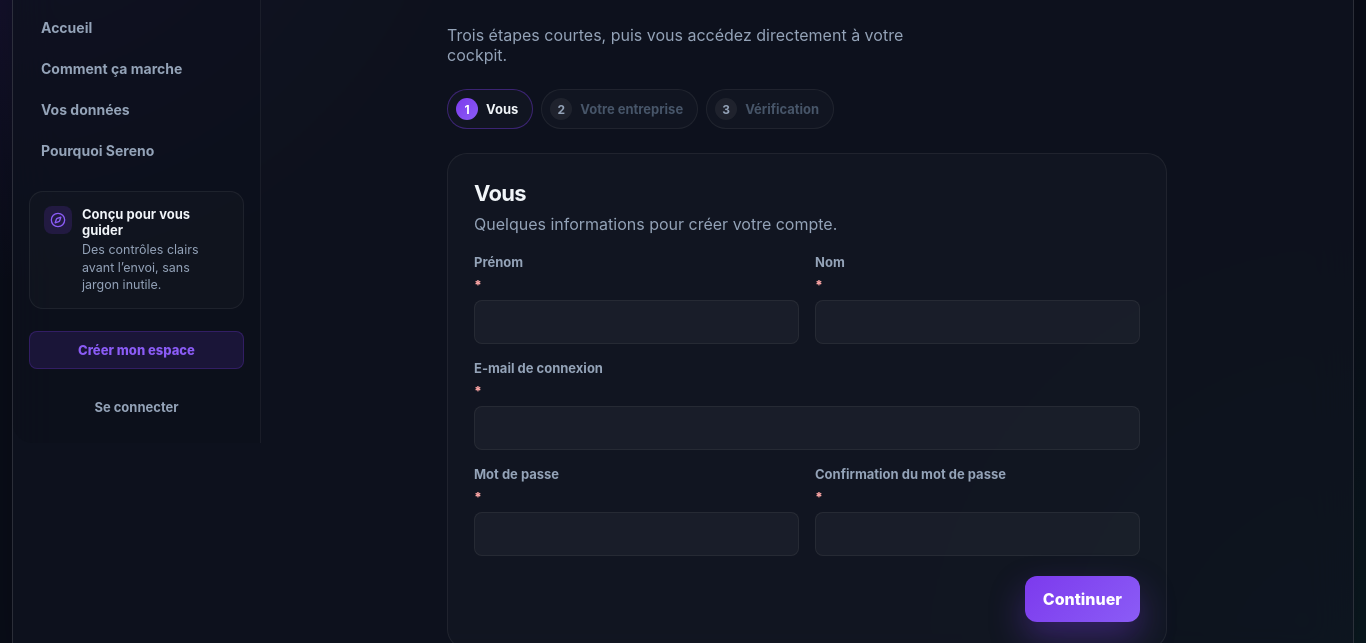
Test case: InscriptionPage — étape 1 (Vous) › valide localement SANS appeler le backend (requis, e-mail plausible, 8 caractères, confirmation identique)
(page scrolled)
Click the button "Continuer". click: point(1082, 599)
box: [1025, 576, 1140, 622]
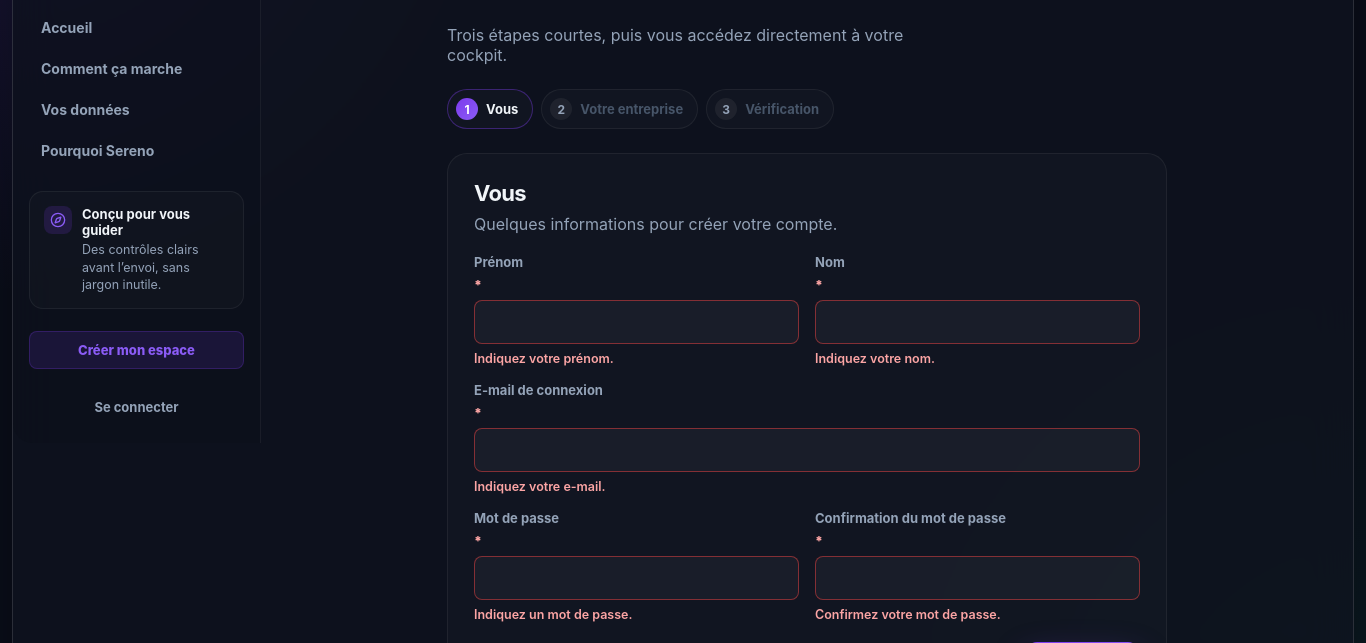
Expected: the text "Indiquez votre prénom." is shown, [474, 351, 614, 366]
Expected: the text "Indiquez votre nom." is shown, [815, 351, 935, 366]
Expected: the text "Indiquez votre e-mail." is shown, [474, 479, 606, 494]
Type "Sébastien" into the field labelled "Prénom * Indiquez votre prénom.". click: point(636, 322)
box: [474, 300, 799, 344]
Type "Cantrelle" into the field labelled "Nom * Indiquez votre nom.". click: point(978, 322)
box: [815, 300, 1140, 344]
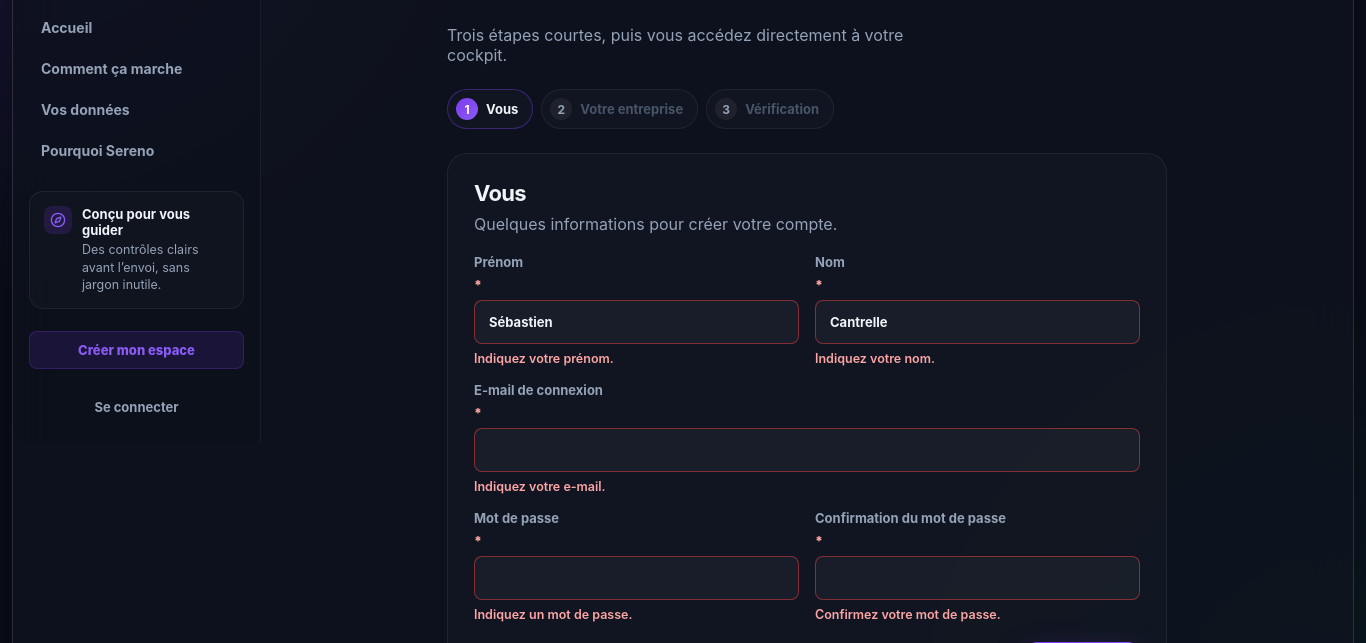
Type "pas-un-email" into the field labelled "E-mail de connexion * Indiquez votre e-mail.". click: point(807, 450)
box: [474, 428, 1140, 472]
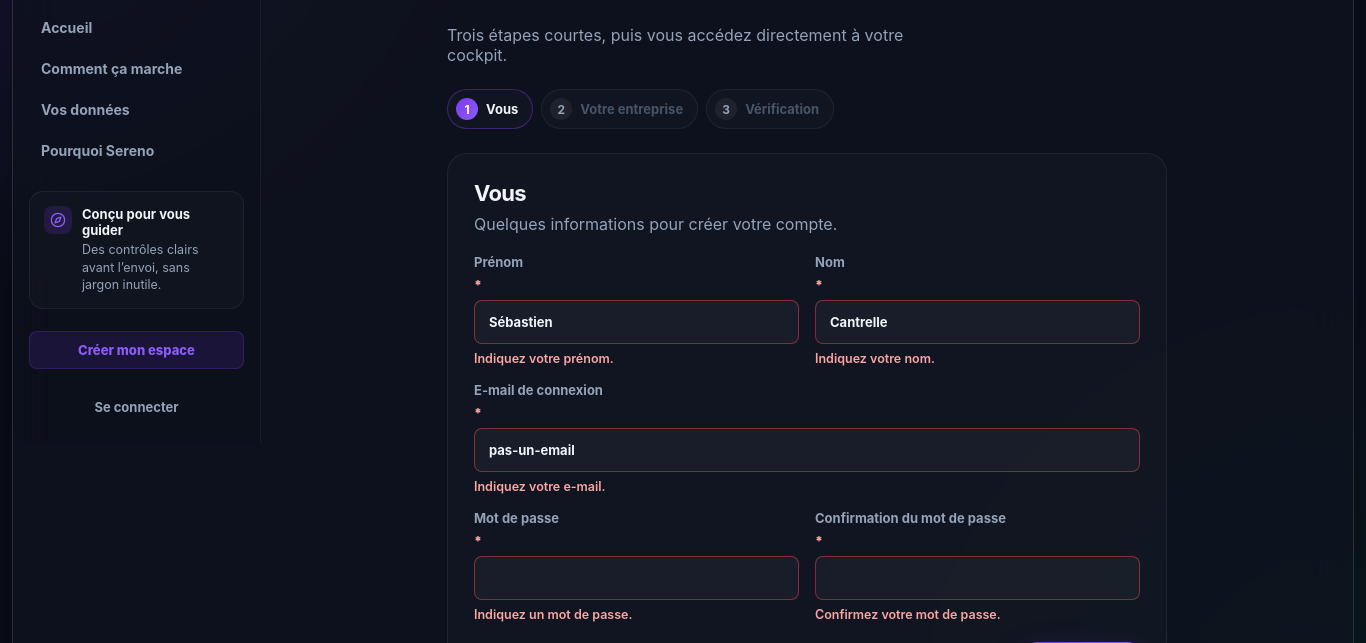
Type "court" into the password field labelled "Mot de passe * Indiquez un mot de passe.". click: point(636, 578)
box: [474, 556, 799, 600]
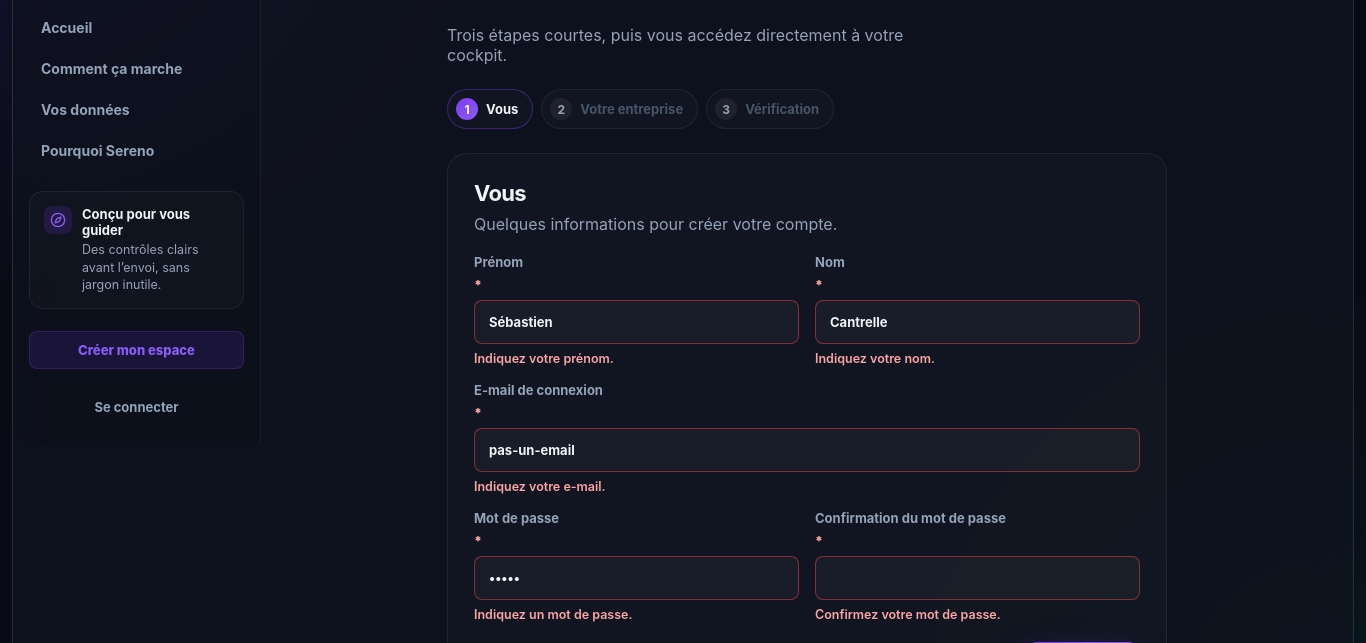
Type "different" into the password field labelled "Confirmation du mot de passe * Confirmez votre mot de passe.". click: point(978, 578)
box: [815, 556, 1140, 600]
(page scrolled)
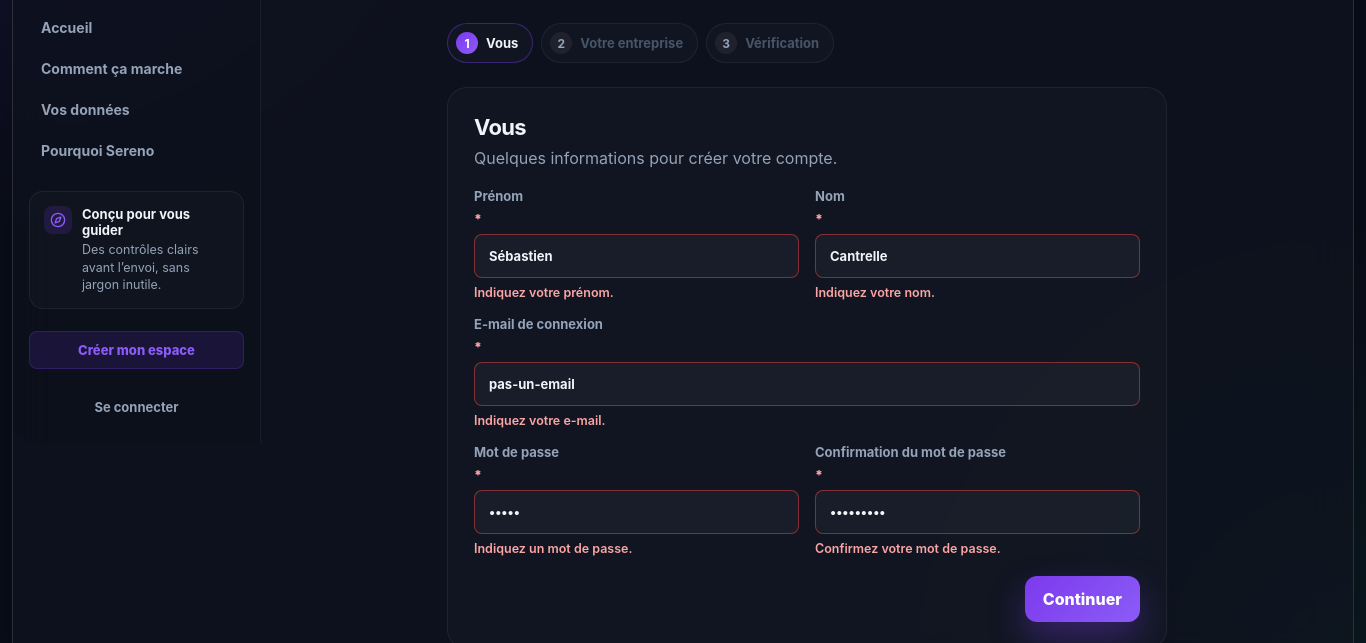
Click the button "Continuer". click: point(1082, 599)
box: [1025, 576, 1140, 622]
(page scrolled)
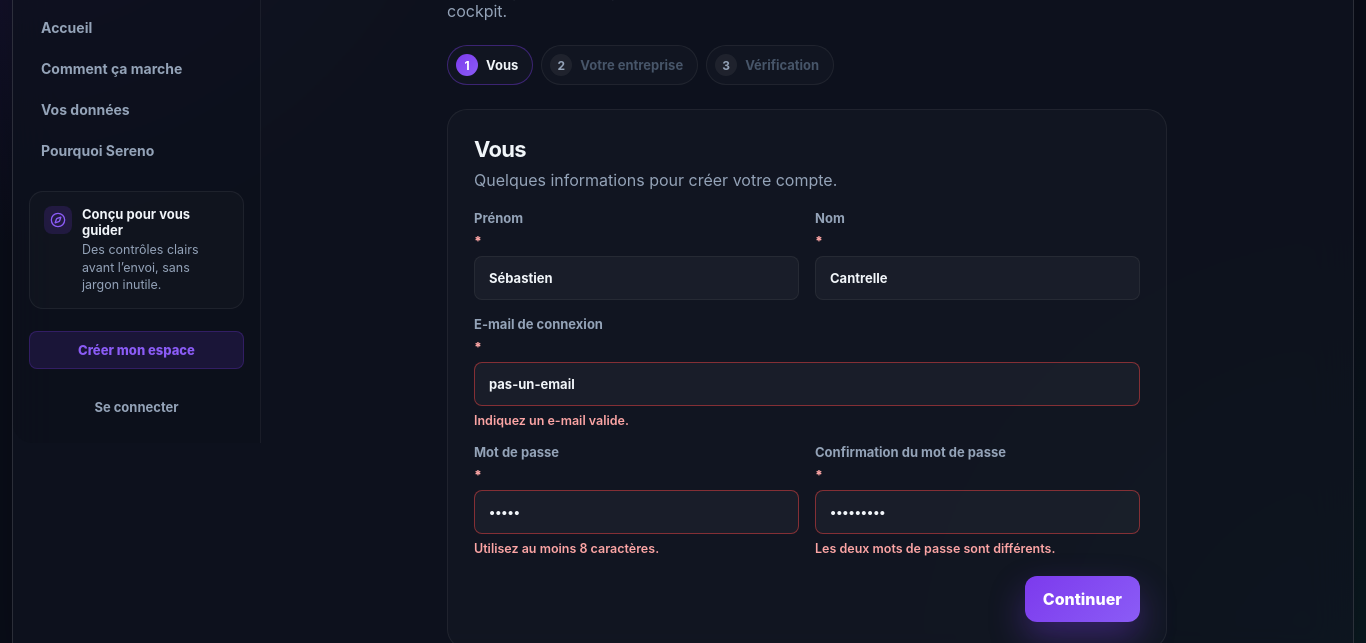
Expected: the text "Indiquez un e-mail valide." is shown, [474, 413, 629, 428]
Expected: the text "Utilisez au moins 8 caractères." is shown, [474, 541, 659, 556]
